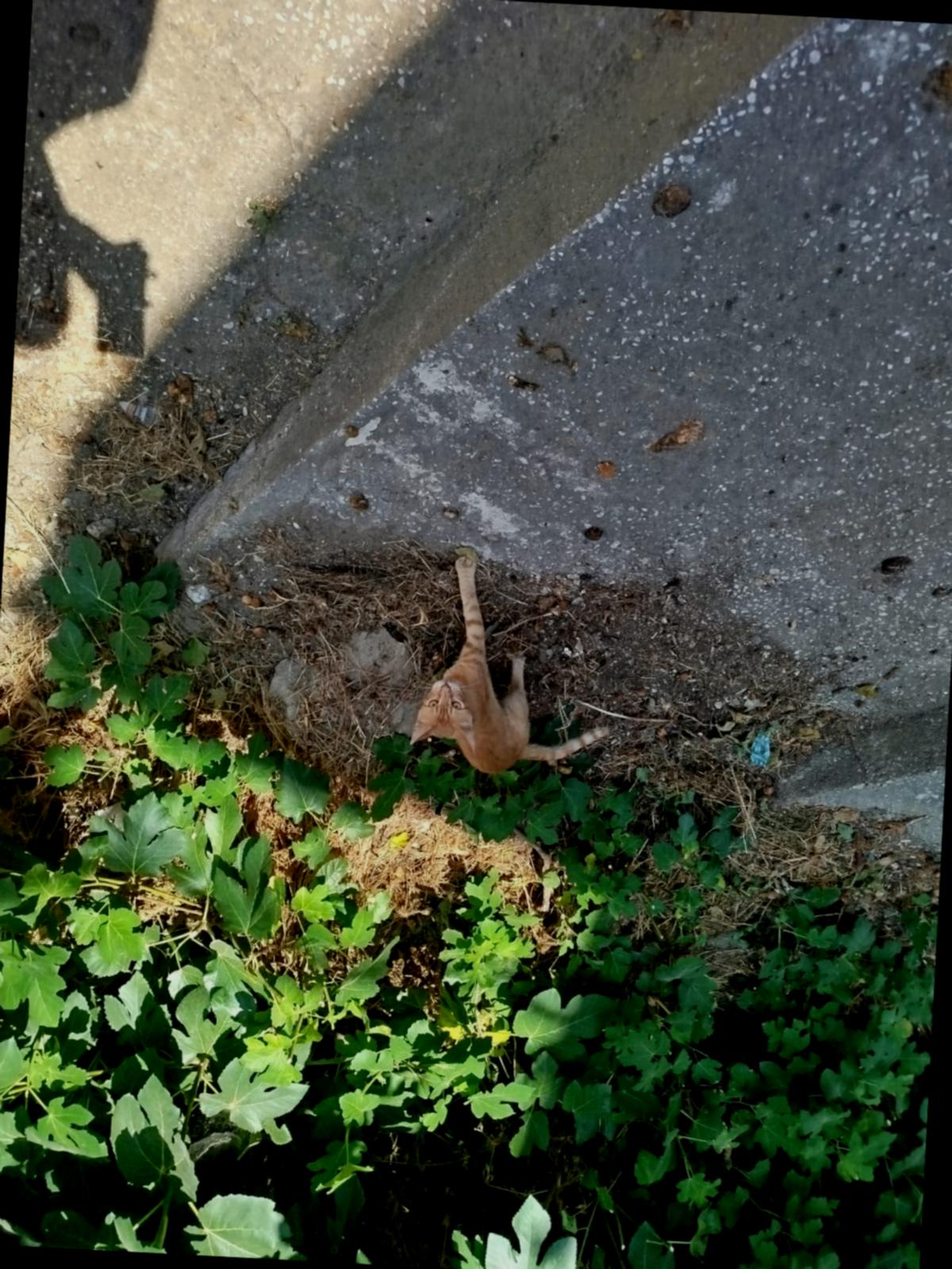macka: (411, 554, 616, 777)
